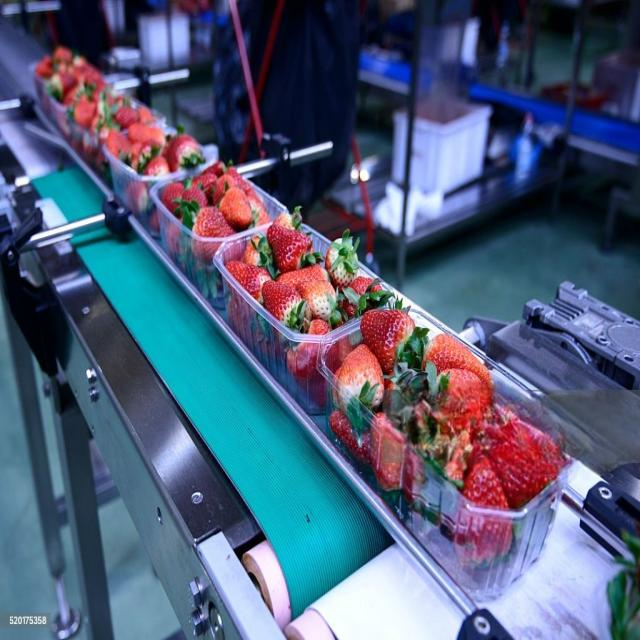food: (312, 302, 576, 601), (211, 214, 392, 414), (150, 160, 304, 305)
